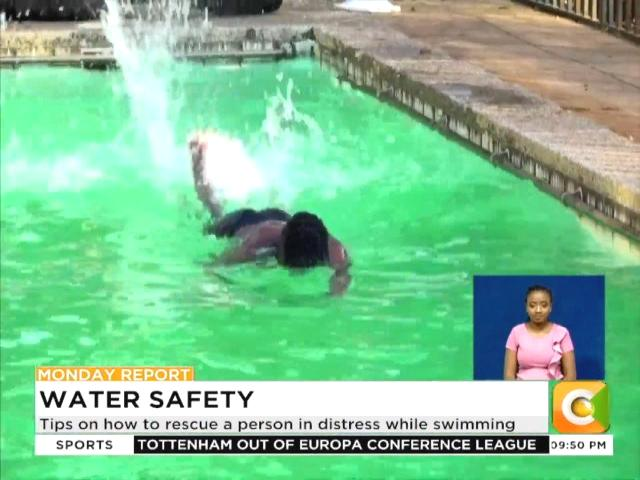swimming: (165, 114, 368, 308)
